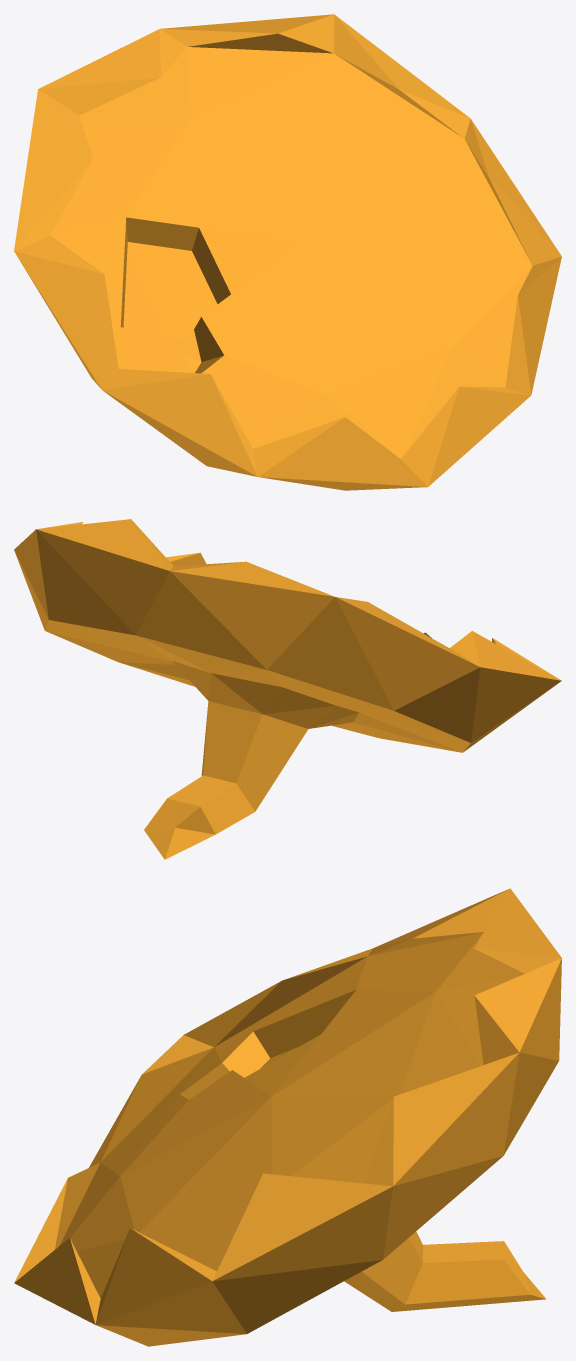
The model's file is SM_Sunflower_Head_B.fbx.
3 views of the same model, one above another, from view 1: azimuth 30°, elevation 25°; view 2: azimuth 150°, elevation 25°; view 3: azimuth 270°, elevation 25° (orthographic). The views are drawn at different scales.
Visible parts, largest first — view 1: sunflower-head-b; view 2: sunflower-head-b; view 3: sunflower-head-b.
Part boxes in pixels (x1=…): sunflower-head-b: x1=14, y1=14, x2=561, y2=490; sunflower-head-b: x1=14, y1=519, x2=561, y2=859; sunflower-head-b: x1=14, y1=888, x2=561, y2=1346.
Size of the model in its own units: 0.3099 by 0.1981 by 0.2789.
